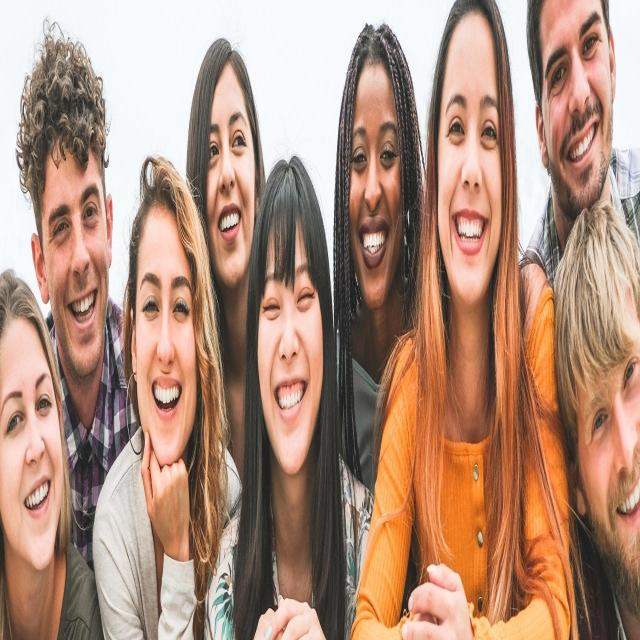adult: (352, 3, 569, 640), (101, 145, 239, 640), (16, 26, 140, 541), (240, 157, 372, 640), (334, 22, 429, 504), (555, 207, 640, 640), (182, 29, 264, 474), (0, 271, 98, 639), (521, 0, 640, 280)
